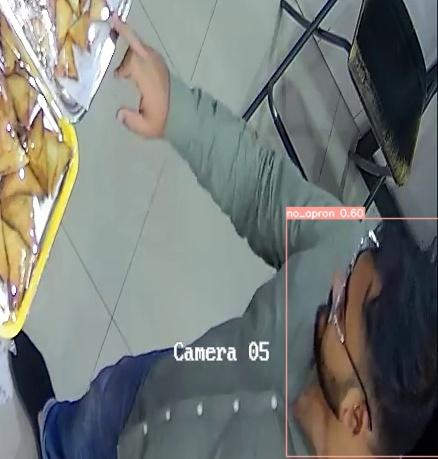no_apron: (117, 217, 385, 459)
